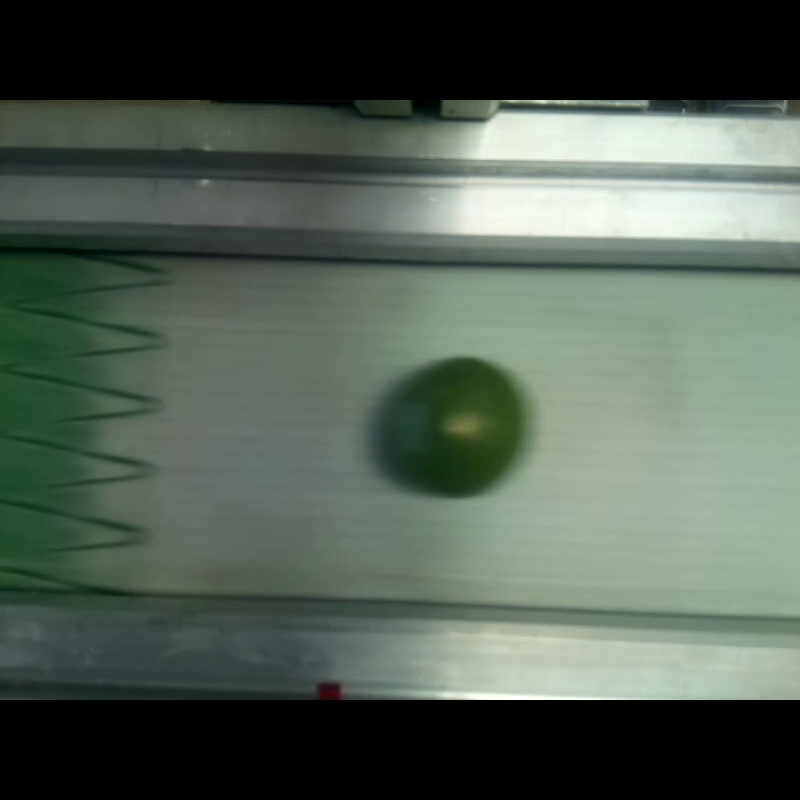lime: (388, 358, 524, 497)
